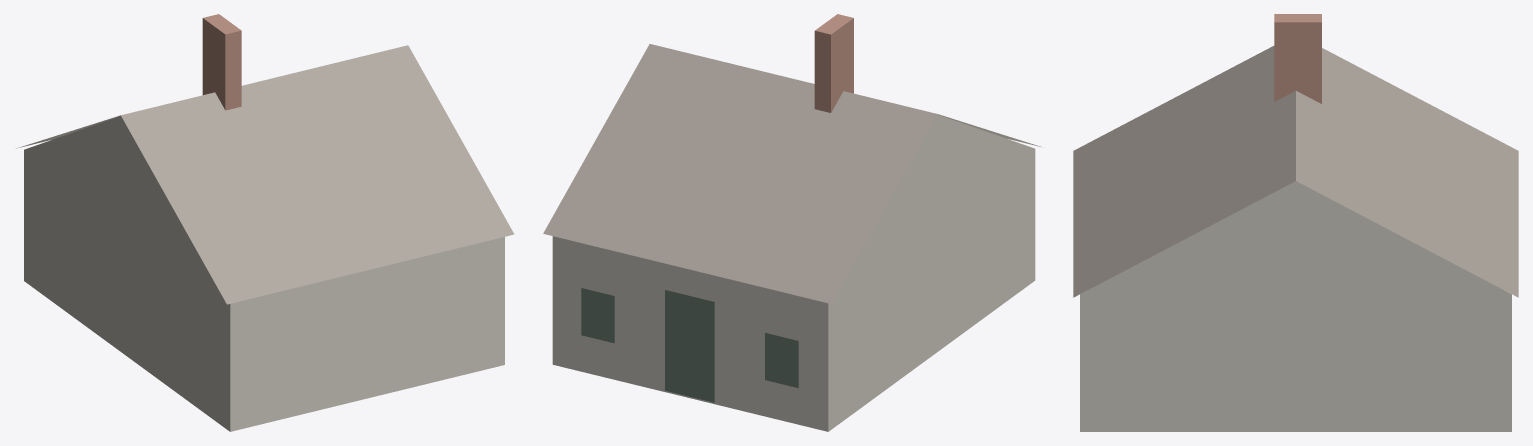
File: recon_1835_north_d4_039__recommended_1835.glb
The picture shows the model from 3 angles, left to right: view 1: azimuth 30°, elevation 25°; view 2: azimuth 150°, elevation 25°; view 3: azimuth 270°, elevation 25°; orthographic projection. The views are drawn at different scales.
Visible parts, largest first — view 1: recon_1835_north_d4_039__recommended_1835; view 2: recon_1835_north_d4_039__recommended_1835; view 3: recon_1835_north_d4_039__recommended_1835.
Part boxes in pixels (left/top/right/bottom): recon_1835_north_d4_039__recommended_1835: left=16, top=14, right=514, bottom=431; recon_1835_north_d4_039__recommended_1835: left=543, top=14, right=1040, bottom=431; recon_1835_north_d4_039__recommended_1835: left=1073, top=14, right=1518, bottom=431.
Bounding box in the file's own units: 6.38 × 6.53 × 8.17.
